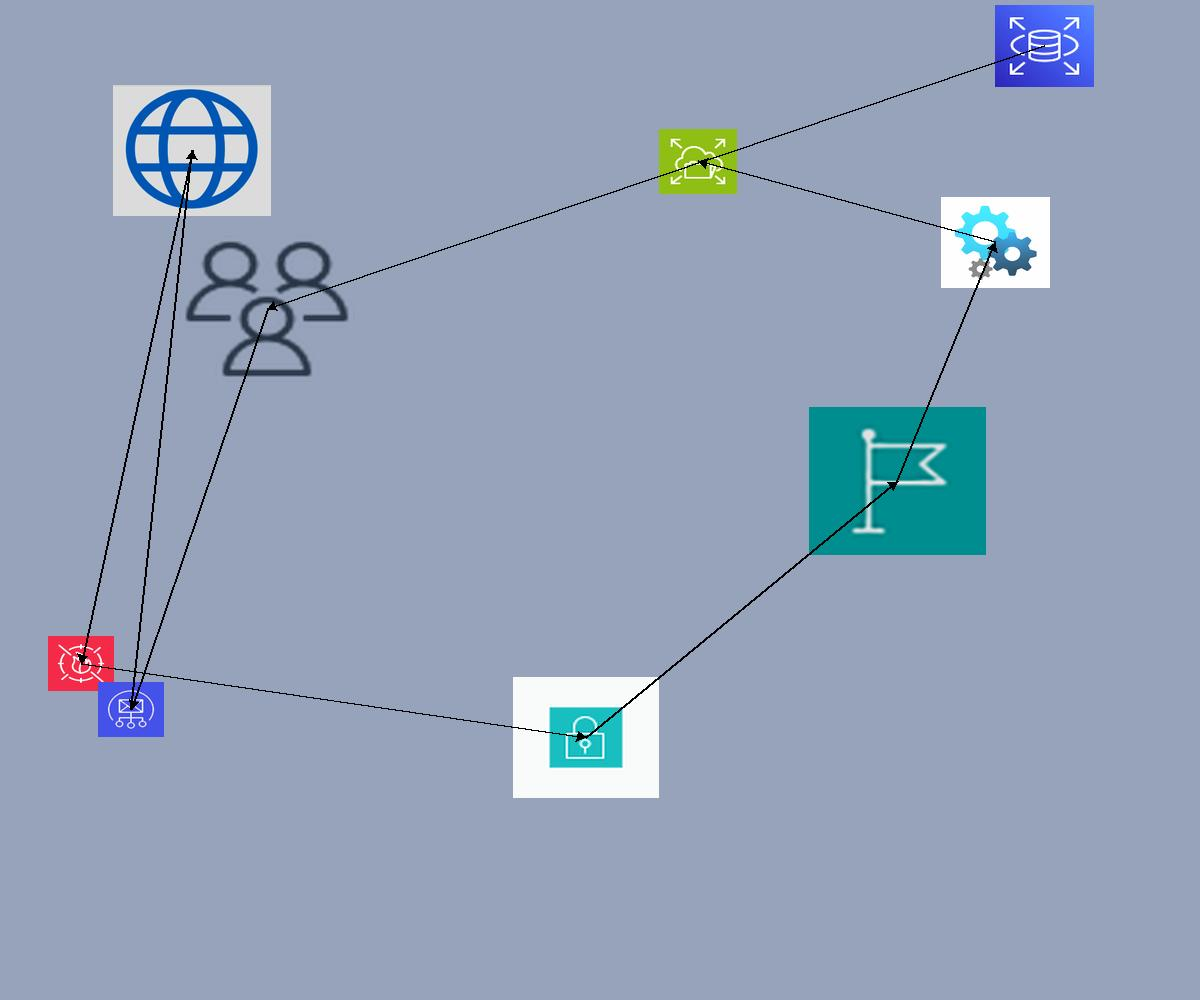AWS-EFS: (659, 129, 737, 194)
AWS-Private-subnet: (513, 677, 659, 798)
AWS-RDS: (995, 5, 1094, 87)
AWS-Region: (809, 407, 986, 555)
AWS-Res_Users: (179, 236, 355, 382)
AWS-Simple-Email-Service: (98, 682, 164, 737)
AWS-WAF: (48, 636, 114, 691)
Azure_api: (941, 197, 1050, 288)
Azure_http: (113, 85, 271, 216)
